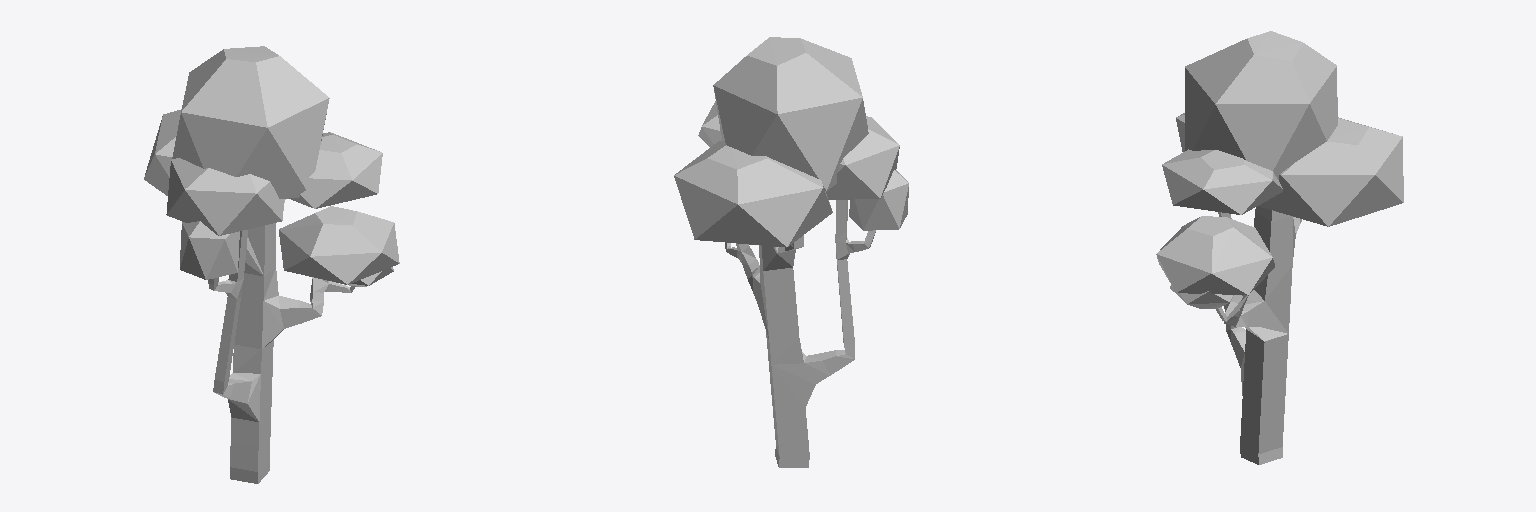
File: Tree5.obj
3 renders of one model, left to right at view 1: azimuth 30°, elevation 25°; view 2: azimuth 150°, elevation 25°; view 3: azimuth 270°, elevation 25°, orthographic.
Visible parts, largest first — view 1: Icosphere.019, Cube.005, Icosphere.022, Icosphere.020, Icosphere.021, Icosphere.024, Icosphere.025; view 2: Icosphere.019, Cube.005, Icosphere.025, Icosphere.020, Icosphere.024, Icosphere.021; view 3: Icosphere.019, Cube.005, Icosphere.025, Icosphere.022, Icosphere.021, Icosphere.023.
Part boxes in pixels (x1,y1,x2,y2): Icosphere.019: (172,46,329,198); Cube.005: (208,223,355,483); Icosphere.022: (279,206,399,284); Icosphere.020: (166,158,283,235); Icosphere.021: (289,132,382,208); Icosphere.024: (180,221,239,279); Icosphere.025: (144,109,285,202); Icosphere.019: (713,37,868,190); Cube.005: (725,200,875,467); Icosphere.025: (674,141,832,247); Icosphere.020: (826,116,899,199); Icosphere.024: (849,170,908,230); Icosphere.021: (698,101,722,146); Icosphere.019: (1185,31,1337,179); Cube.005: (1216,206,1301,464); Icosphere.025: (1259,117,1403,226); Icosphere.022: (1156,216,1274,294); Icosphere.021: (1162,149,1282,214); Icosphere.023: (1170,285,1232,308).
Bounding box in the file's own units: 2.68 × 5.16 × 2.76.